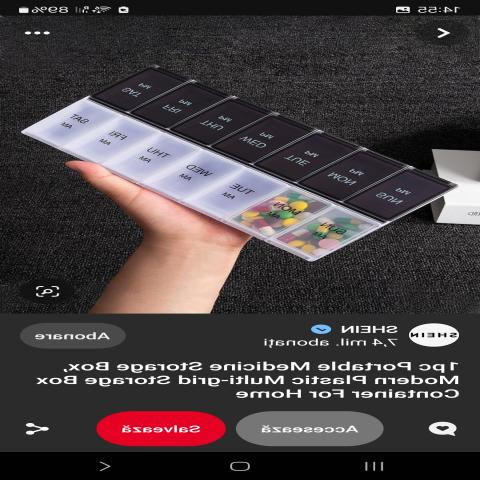Pill-box: (36, 38, 454, 274)
